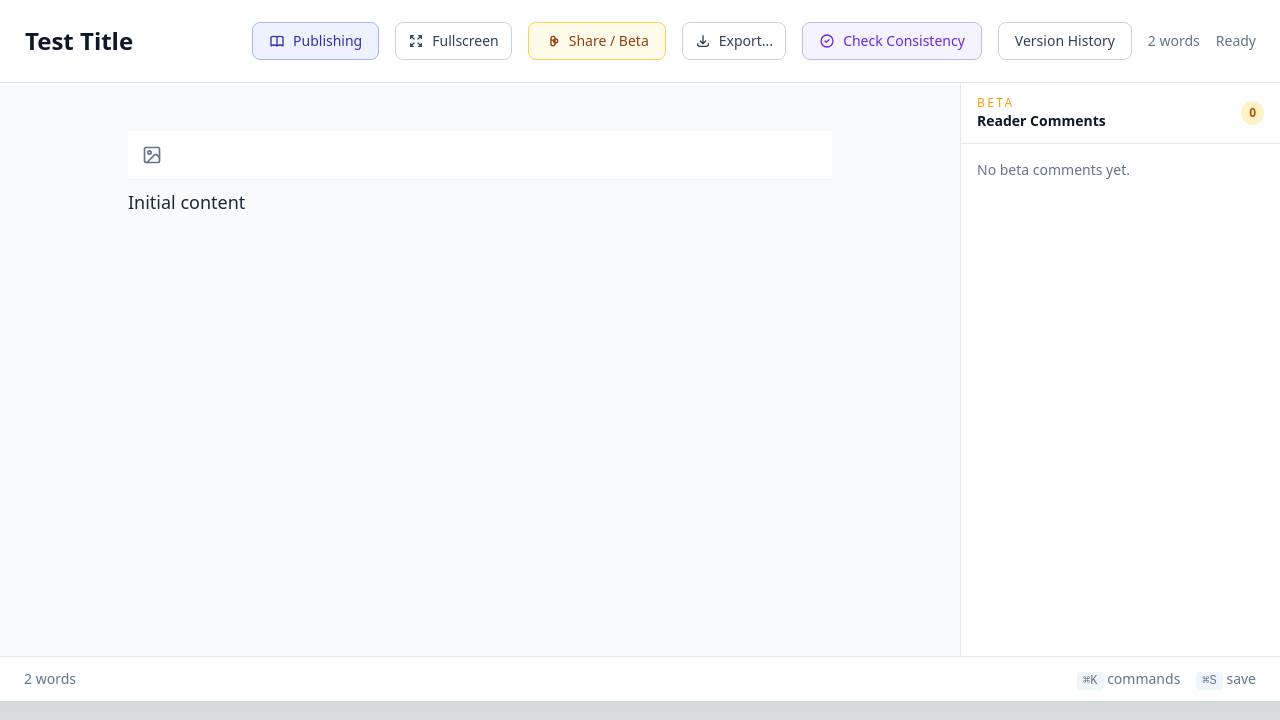
ManuscriptEditor suggestions trigger › shows consistency check API errors with trace ID
Click the button "Check Consistency". click: coordinates (892, 41)
box: [802, 22, 982, 60]
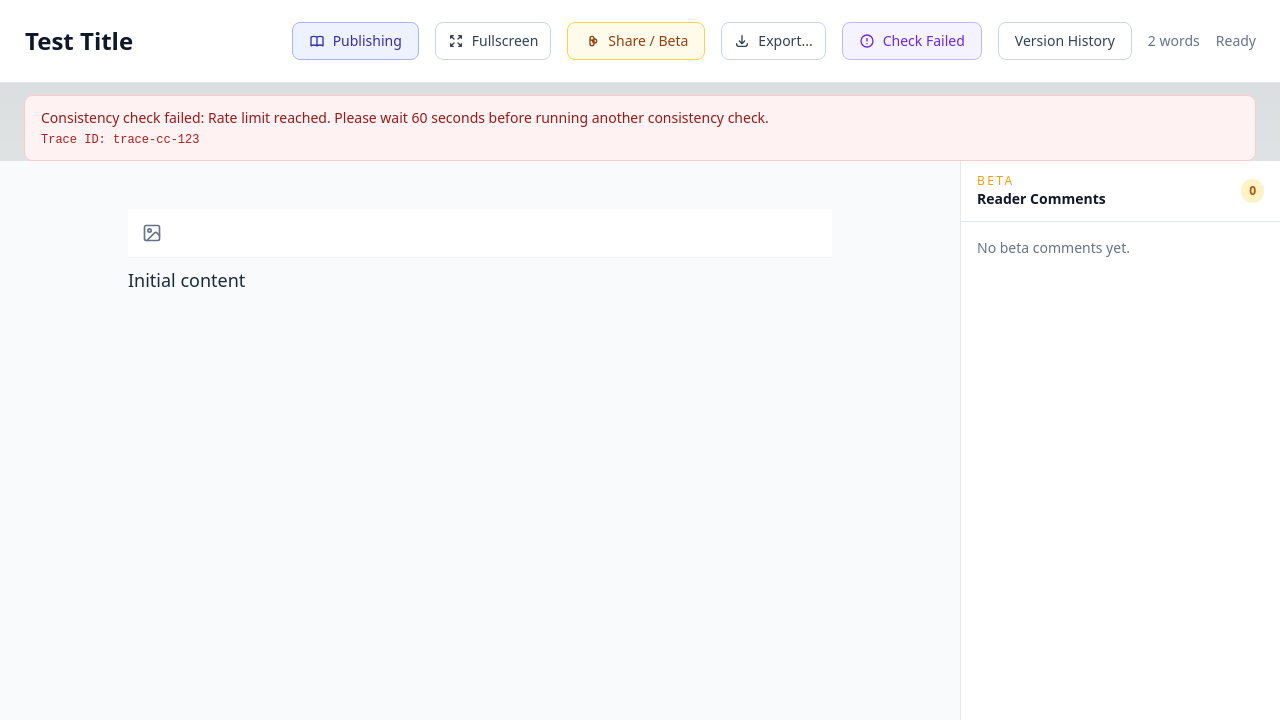
Now the message with test id "consistency-check-error-banner" is shown, box [24, 95, 1256, 161]
Now the text "Rate limit reached. Please wait 60 seconds before running another consistency check." is shown, box [208, 108, 769, 127]
Now the text "Trace ID: trace-cc-123" is shown, box [41, 133, 199, 147]
